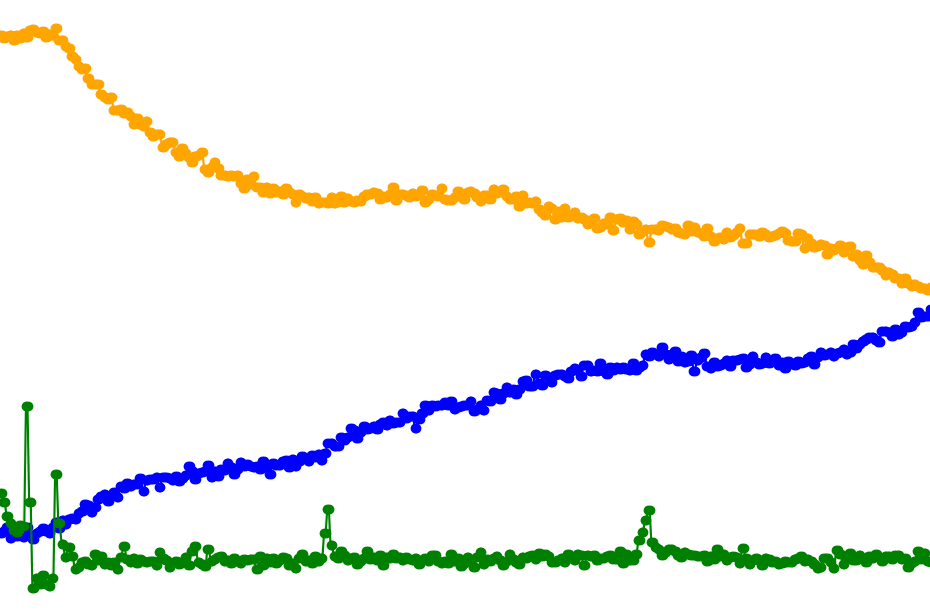CO2 Problem: (311, 0, 583, 616), (777, 0, 930, 616), (661, 0, 777, 616), (77, 0, 155, 616), (155, 0, 233, 616), (233, 0, 311, 616), (583, 0, 661, 616), (0, 0, 77, 616)
Condensation CO2: (777, 0, 930, 616), (661, 0, 777, 616), (77, 0, 155, 616), (155, 0, 233, 616), (583, 0, 661, 616)
Condensation O2: (661, 0, 777, 616), (583, 0, 661, 616)
High CO2: (311, 0, 544, 616), (777, 0, 930, 616), (77, 0, 155, 616), (155, 0, 233, 616), (233, 0, 311, 616), (0, 0, 77, 616)
High O2: (311, 0, 661, 616), (777, 0, 930, 616), (661, 0, 777, 616)
Low CO2: (311, 0, 661, 616), (661, 0, 777, 616), (583, 0, 661, 616)
Low O2: (661, 0, 930, 616), (777, 0, 930, 616)
Normal: (77, 0, 661, 616), (311, 0, 661, 616), (583, 0, 930, 616), (311, 0, 622, 616), (311, 0, 583, 616), (661, 0, 930, 616), (77, 0, 311, 616), (311, 0, 544, 616), (77, 0, 233, 616), (155, 0, 311, 616), (0, 0, 155, 616), (777, 0, 930, 616), (661, 0, 777, 616), (77, 0, 155, 616), (155, 0, 233, 616), (233, 0, 311, 616), (583, 0, 661, 616), (0, 0, 77, 616), (661, 0, 738, 616)
O2 Problem: (777, 0, 930, 616), (661, 0, 777, 616)
